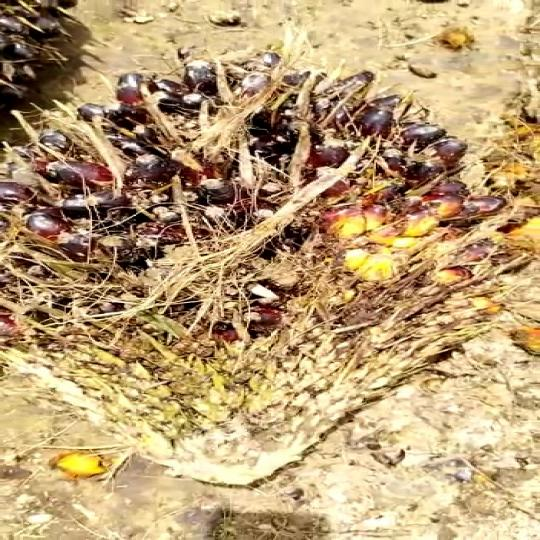mentah: (0, 41, 506, 488)
